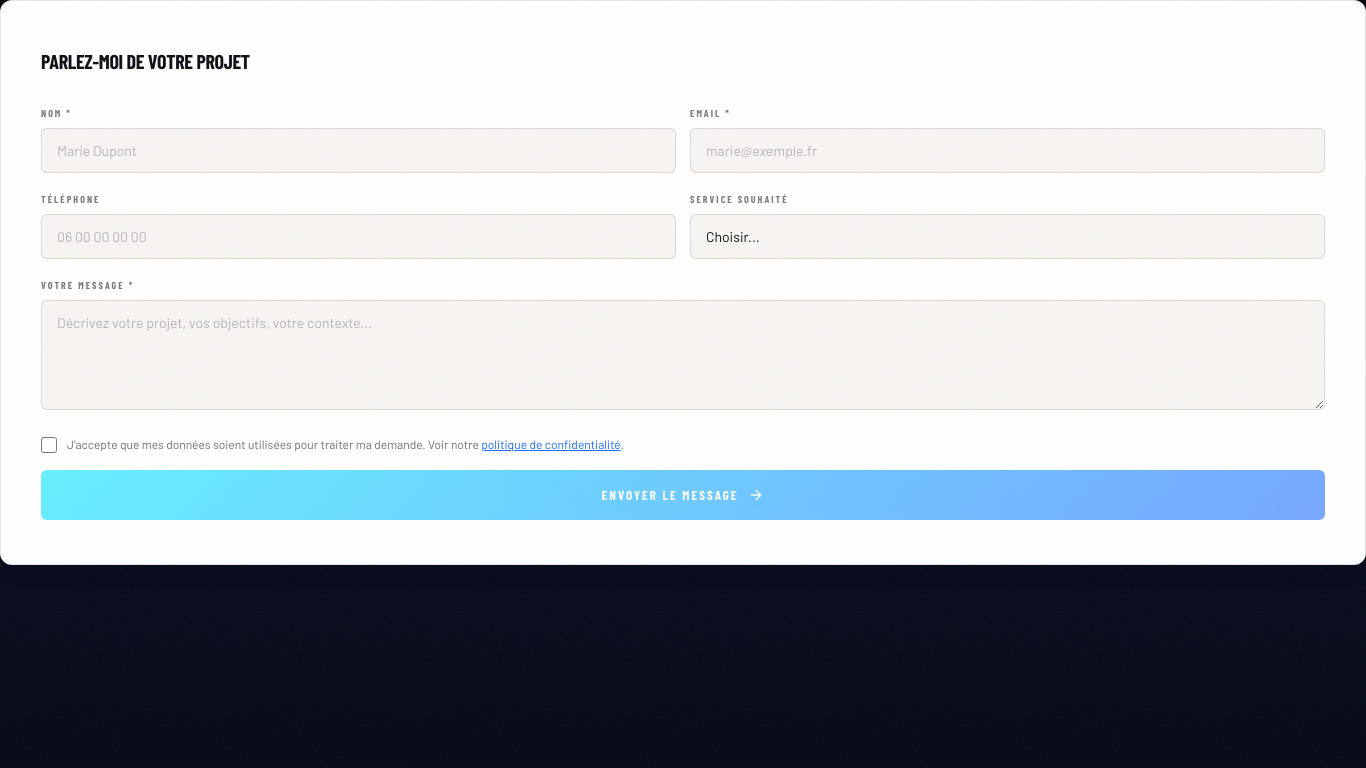
Test: ContactForm › le bouton envoi est activé après consentement
Click the checkbox: click(49, 445) [41,437,57,453]
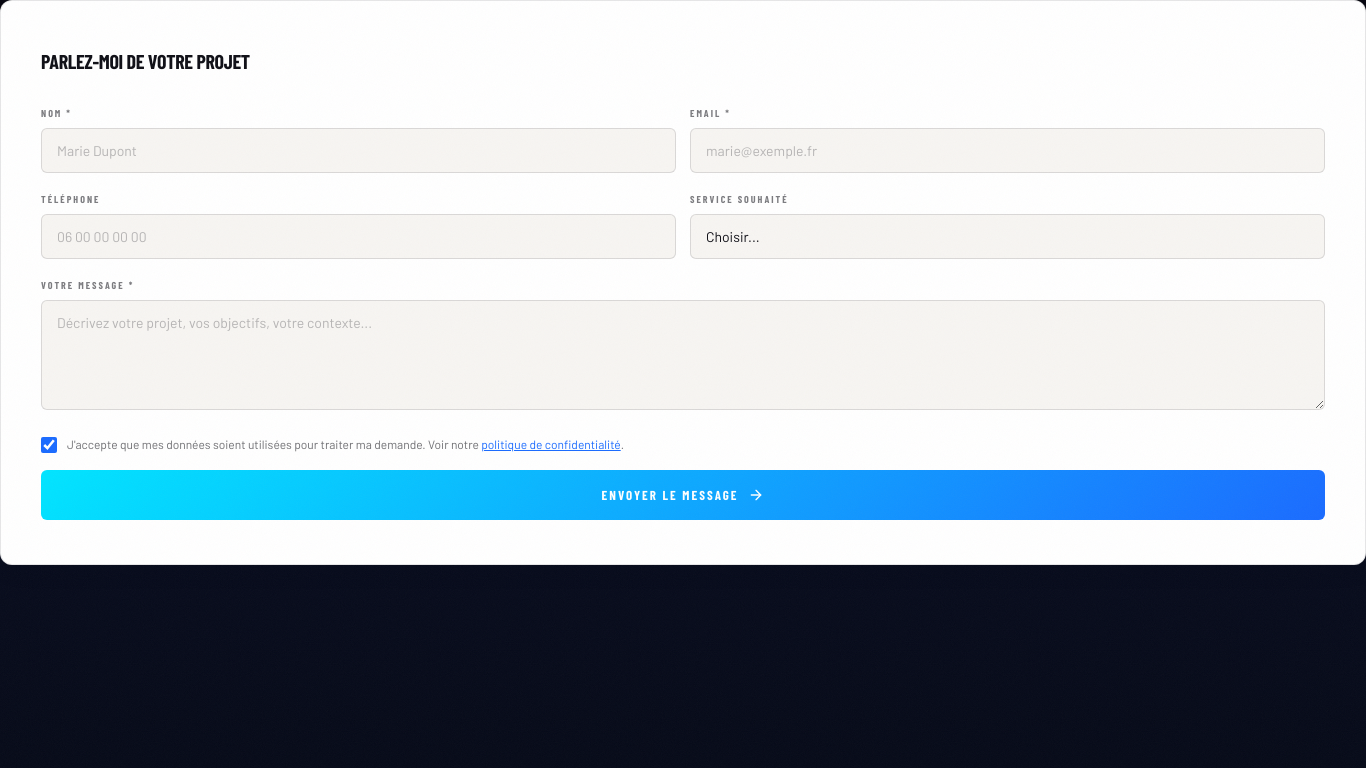
Expected: the button "Envoyer le message" is enabled, [41,470,1325,520]
